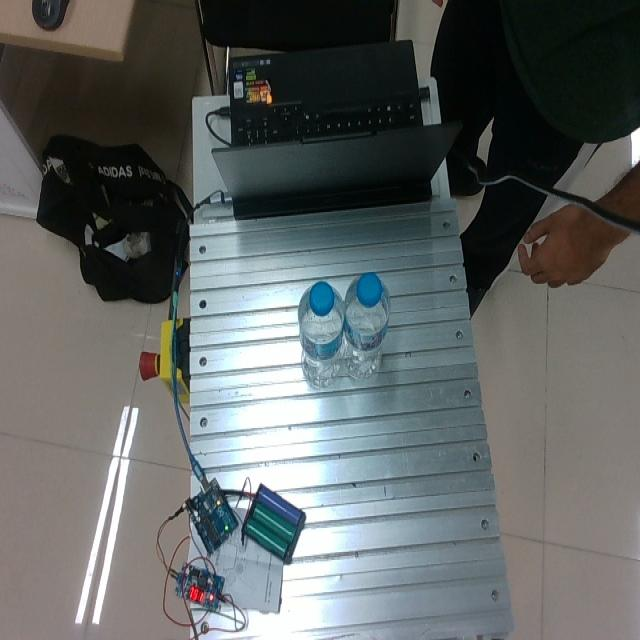lavie: (297, 280, 347, 389), (341, 272, 389, 380)
